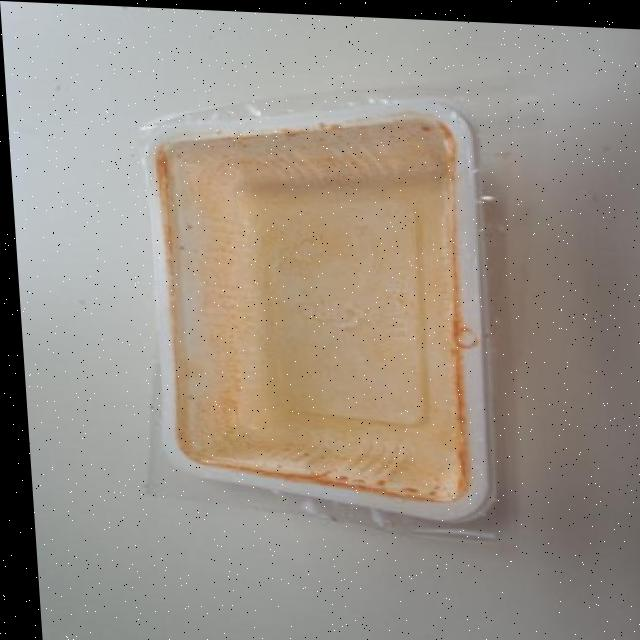disposable: (106, 60, 548, 524)
